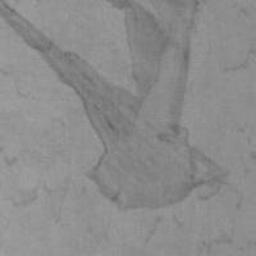Water spot: (0, 0, 228, 212)
